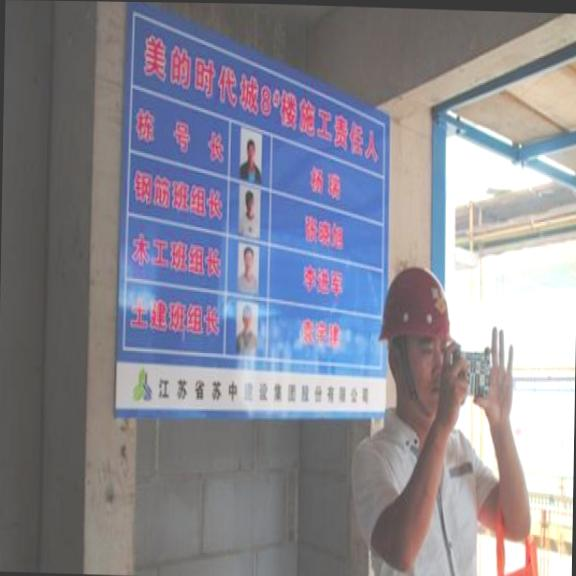no_safety_vest: (344, 402, 492, 576)
